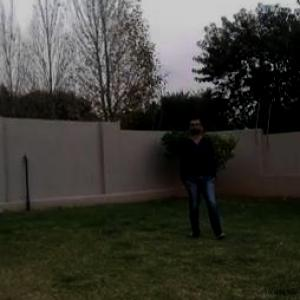follow: (186, 116, 216, 237)
